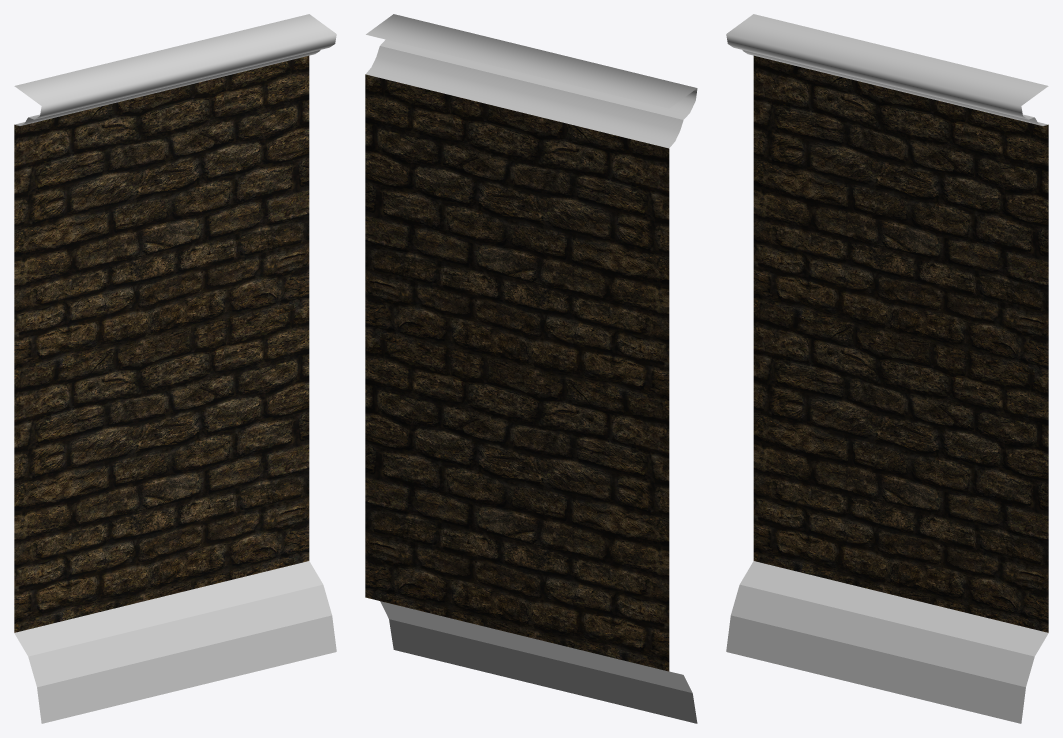
Rendered from cell_wall_worn_short.dae.
3 views of the same model, side by side, from view 1: azimuth 30°, elevation 25°; view 2: azimuth 150°, elevation 25°; view 3: azimuth 330°, elevation 25° (orthographic). The views are drawn at different scales.
Parts seen in each view (by area): view 1: polySurface114, polySurface119; view 2: polySurface114, polySurface119; view 3: polySurface114, polySurface119.
Boxes of the visible parts, left/top/right/bottom form: polySurface114: left=14, top=55, right=309, bottom=632; polySurface119: left=14, top=14, right=336, bottom=723; polySurface114: left=365, top=74, right=669, bottom=671; polySurface119: left=366, top=14, right=697, bottom=723; polySurface114: left=753, top=55, right=1048, bottom=632; polySurface119: left=726, top=14, right=1048, bottom=723.
Size of what is drawn, in the model's own units: 2 by 4 by 0.3219.
